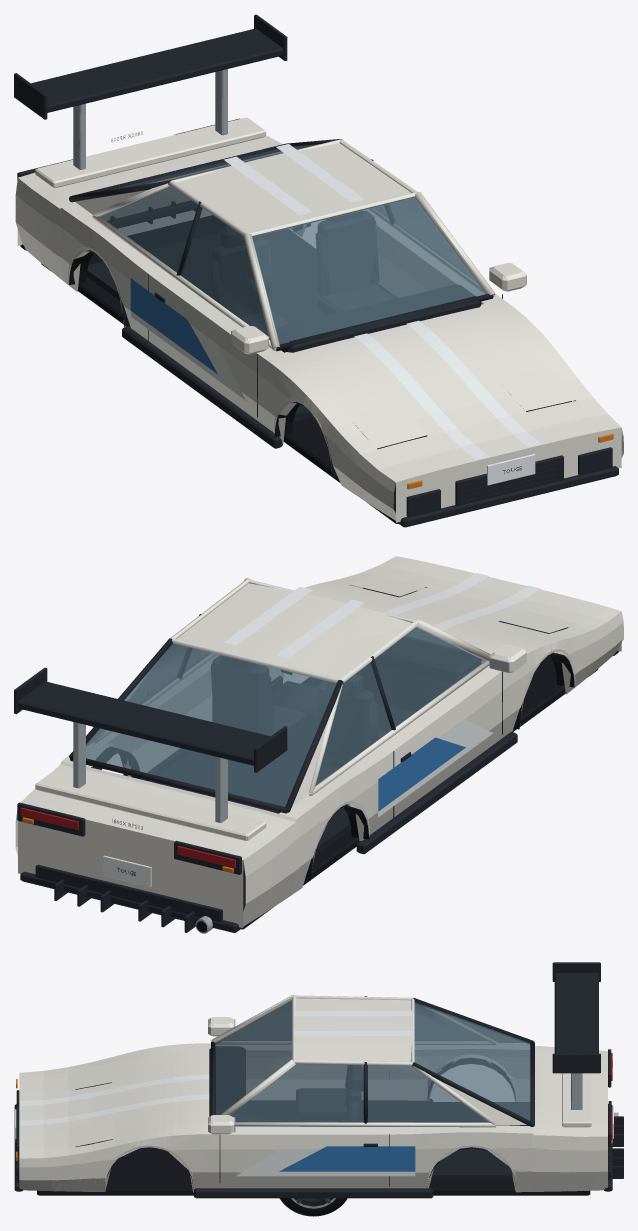
3 views of the same model, one above another, from view 1: azimuth 30°, elevation 25°; view 2: azimuth 150°, elevation 25°; view 3: azimuth 270°, elevation 25° (orthographic). The views are drawn at different scales.
Visible parts, largest first — view 1: LOD0_body, LOD0_cabin, LOD0_glass, LOD1_glass, LOD1_body, LOD0_hood, LOD0_spoiler_gt, LOD1_hood, LOD1_cabin, LOD1_spoiler_gt, LOD0_spoiler_stock, LOD0_vinyl_apex (+5 smaller); view 2: LOD0_body, LOD0_cabin, LOD0_glass, LOD1_glass, LOD1_body, LOD0_spoiler_gt, LOD1_hood, LOD0_spoiler_stock, LOD1_cabin, LOD1_spoiler_gt, LOD0_hood, LOD0_vinyl_apex (+5 smaller); view 3: LOD0_body, LOD1_glass, LOD0_glass, LOD0_cabin, LOD1_body, LOD1_cabin, LOD0_hood, LOD0_spoiler_gt, LOD1_hood, LOD0_vinyl_apex, LOD0_vinyl_twin, LOD1_vinyl_twin (+7 smaller).
Part boxes in pixels (x1=…): LOD0_body: x1=15, y1=118, x2=621, y2=527; LOD0_cabin: x1=69, y1=139, x2=495, y2=421; LOD0_glass: x1=101, y1=144, x2=485, y2=344; LOD1_glass: x1=101, y1=144, x2=485, y2=344; LOD1_body: x1=17, y1=135, x2=623, y2=527; LOD0_hood: x1=284, y1=304, x2=592, y2=473; LOD0_spoiler_gt: x1=14, y1=14, x2=287, y2=169; LOD1_hood: x1=297, y1=314, x2=607, y2=477; LOD1_cabin: x1=72, y1=139, x2=494, y2=420; LOD1_spoiler_gt: x1=22, y1=16, x2=287, y2=169; LOD0_spoiler_stock: x1=35, y1=117, x2=265, y2=187; LOD0_vinyl_apex: x1=130, y1=278, x2=245, y2=400; LOD0_body: x1=17, y1=558, x2=623, y2=933; LOD0_cabin: x1=69, y1=577, x2=490, y2=877; LOD0_glass: x1=86, y1=627, x2=485, y2=806; LOD1_glass: x1=86, y1=627, x2=484, y2=806; LOD1_body: x1=15, y1=556, x2=621, y2=933; LOD0_spoiler_gt: x1=14, y1=667, x2=287, y2=822; LOD1_hood: x1=329, y1=559, x2=607, y2=653; LOD0_spoiler_stock: x1=35, y1=770, x2=266, y2=840; LOD1_cabin: x1=70, y1=577, x2=489, y2=876; LOD1_spoiler_gt: x1=14, y1=667, x2=287, y2=822; LOD0_hood: x1=317, y1=562, x2=592, y2=662; LOD0_vinyl_apex: x1=378, y1=719, x2=493, y2=817; LOD0_body: x1=14, y1=1017, x2=623, y2=1198; LOD1_glass: x1=215, y1=1001, x2=530, y2=1122; LOD0_glass: x1=215, y1=1000, x2=530, y2=1122; LOD0_cabin: x1=209, y1=994, x2=534, y2=1180; LOD1_body: x1=14, y1=1017, x2=612, y2=1198; LOD1_cabin: x1=210, y1=995, x2=534, y2=1180; LOD0_hood: x1=19, y1=1050, x2=209, y2=1151; LOD0_spoiler_gt: x1=552, y1=962, x2=600, y2=1109; LOD1_hood: x1=19, y1=1050, x2=193, y2=1152; LOD0_vinyl_apex: x1=236, y1=1146, x2=415, y2=1176; LOD0_vinyl_twin: x1=22, y1=1011, x2=412, y2=1125; LOD1_vinyl_twin: x1=19, y1=1011, x2=412, y2=1125.
Bounding box in the file's own units: 1.95 × 1.73 × 4.68.
